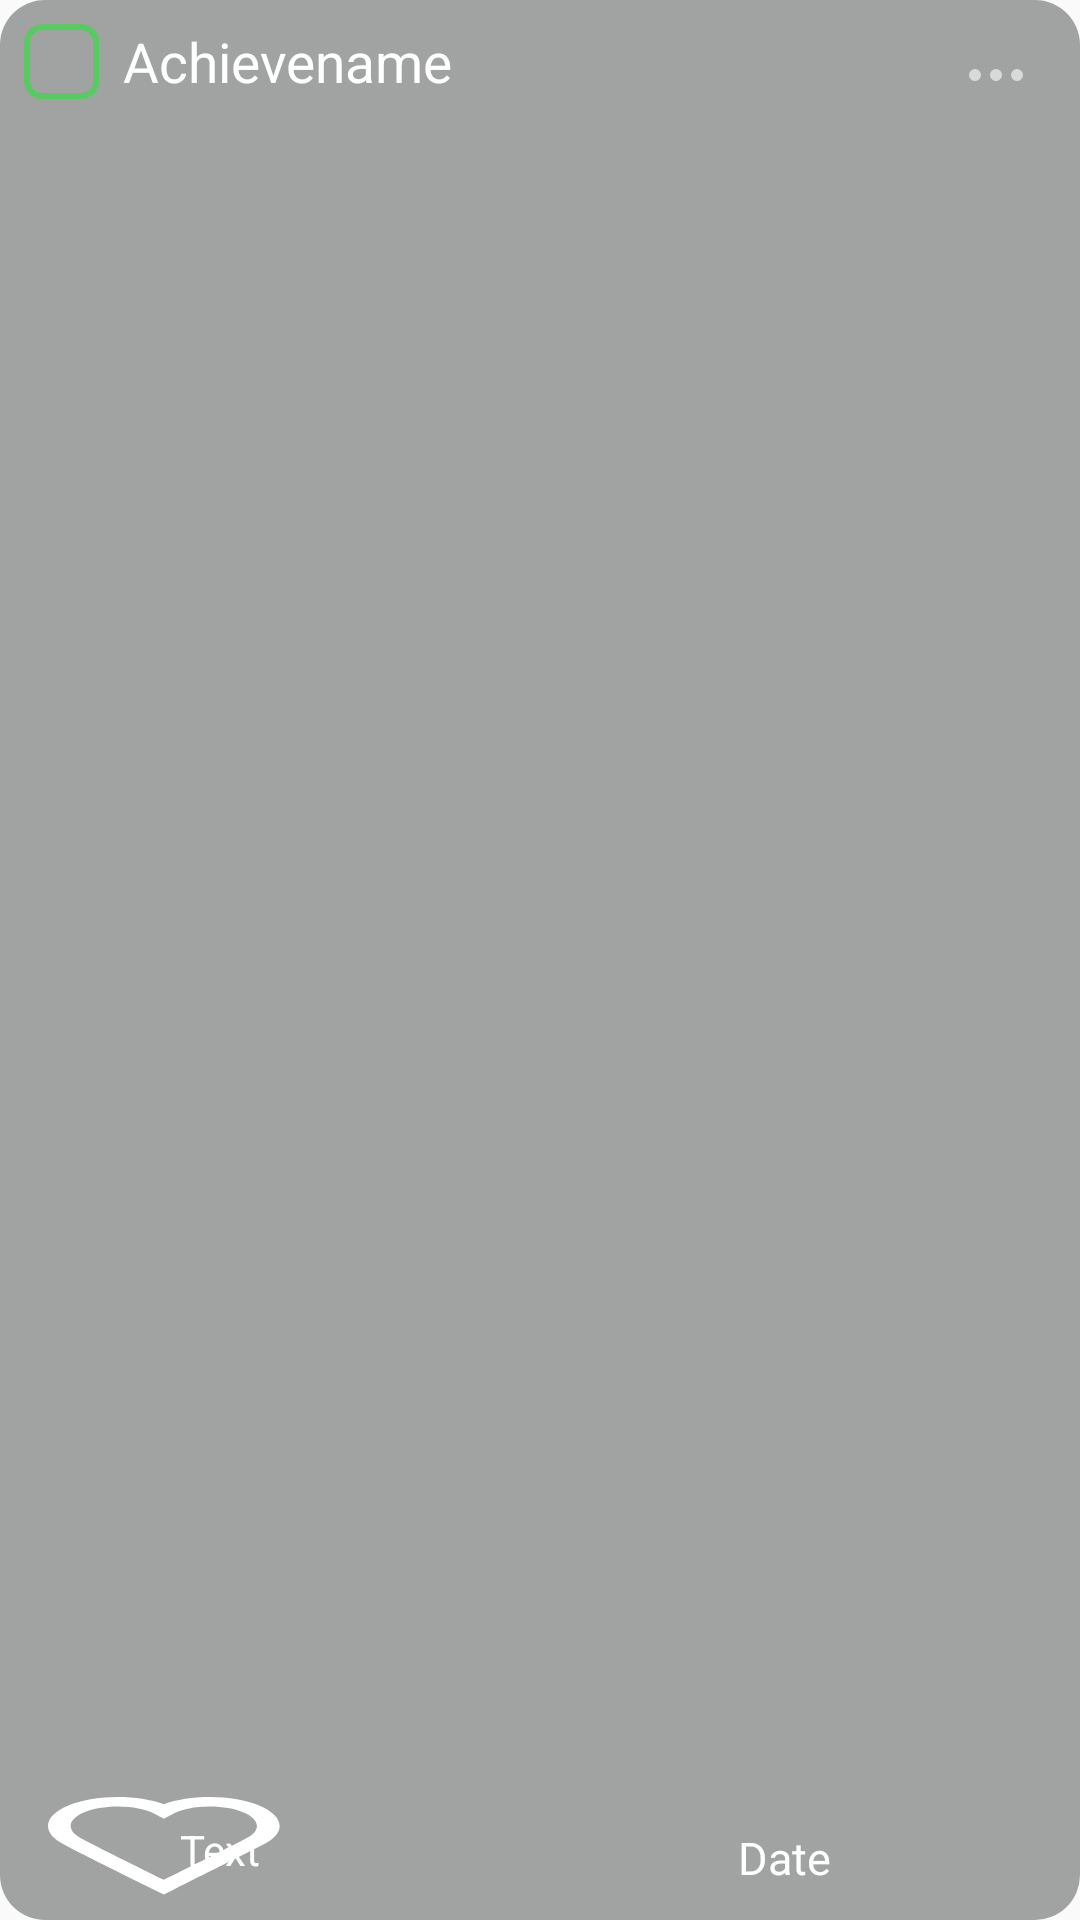

Where to tap for icons on this 1080 × 1920 app screen, as (x=x, y=y):
three dots: (x=996, y=75)
